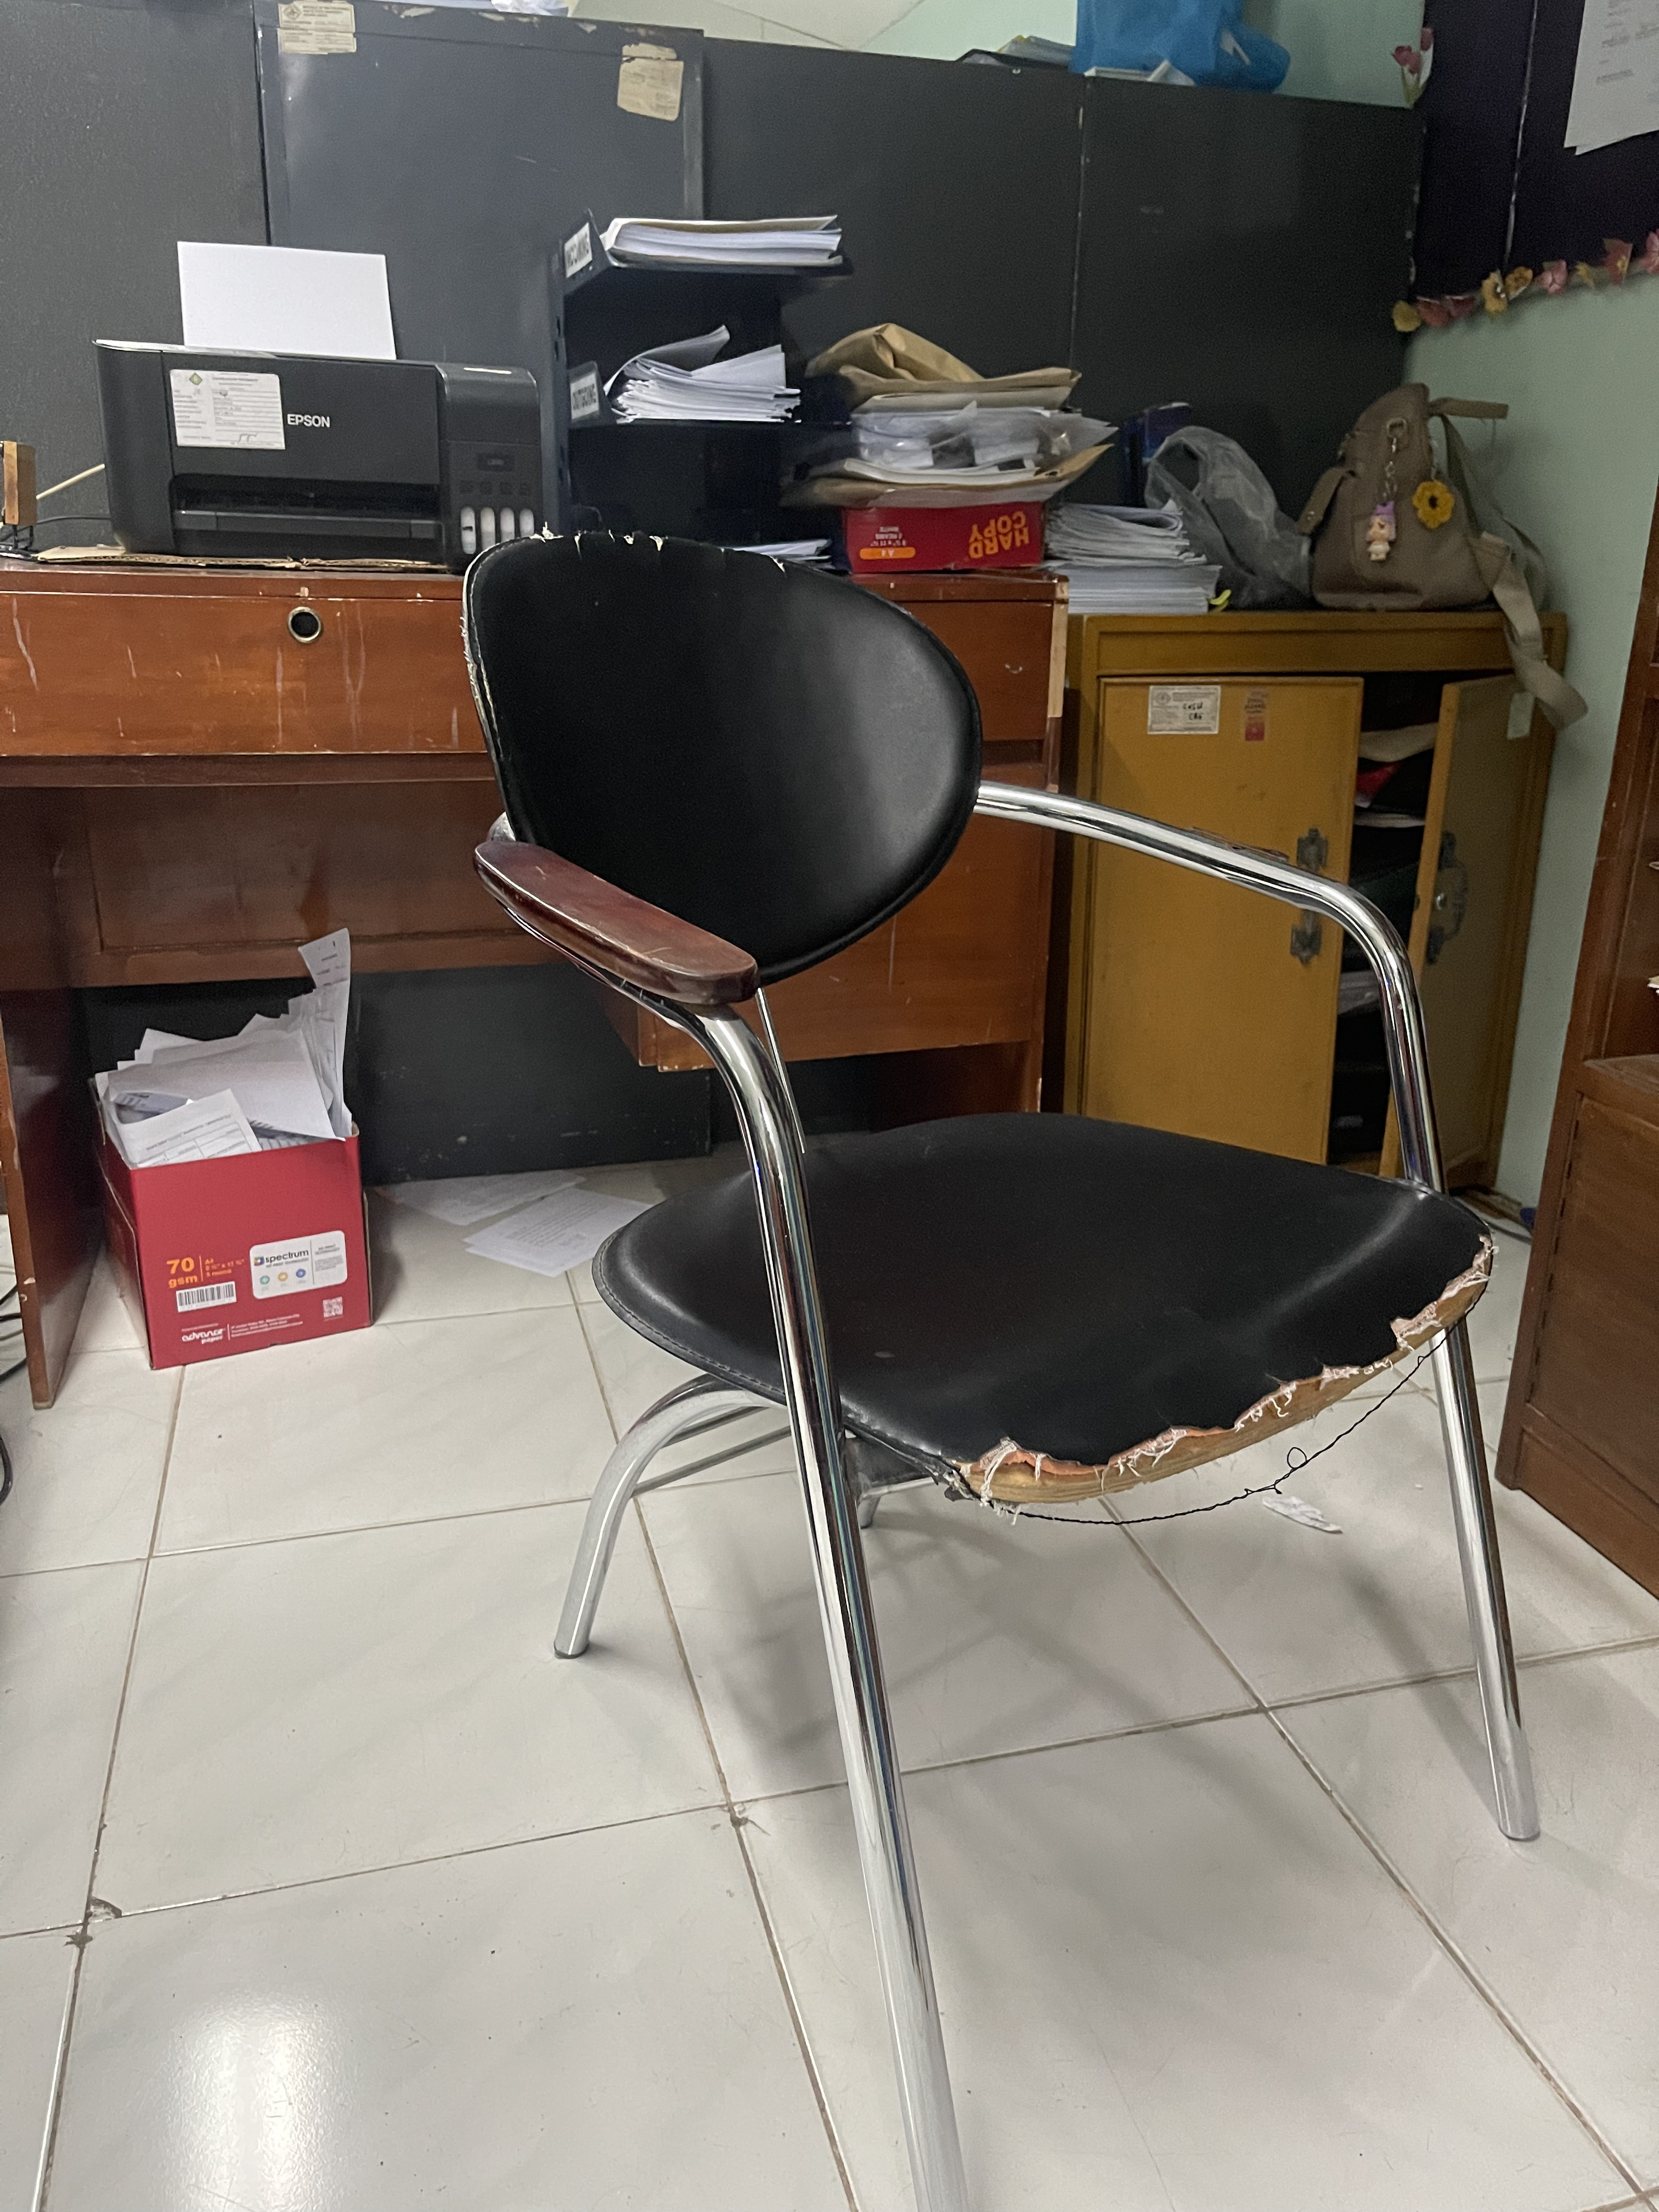chair1: (455, 526, 1549, 2212)
